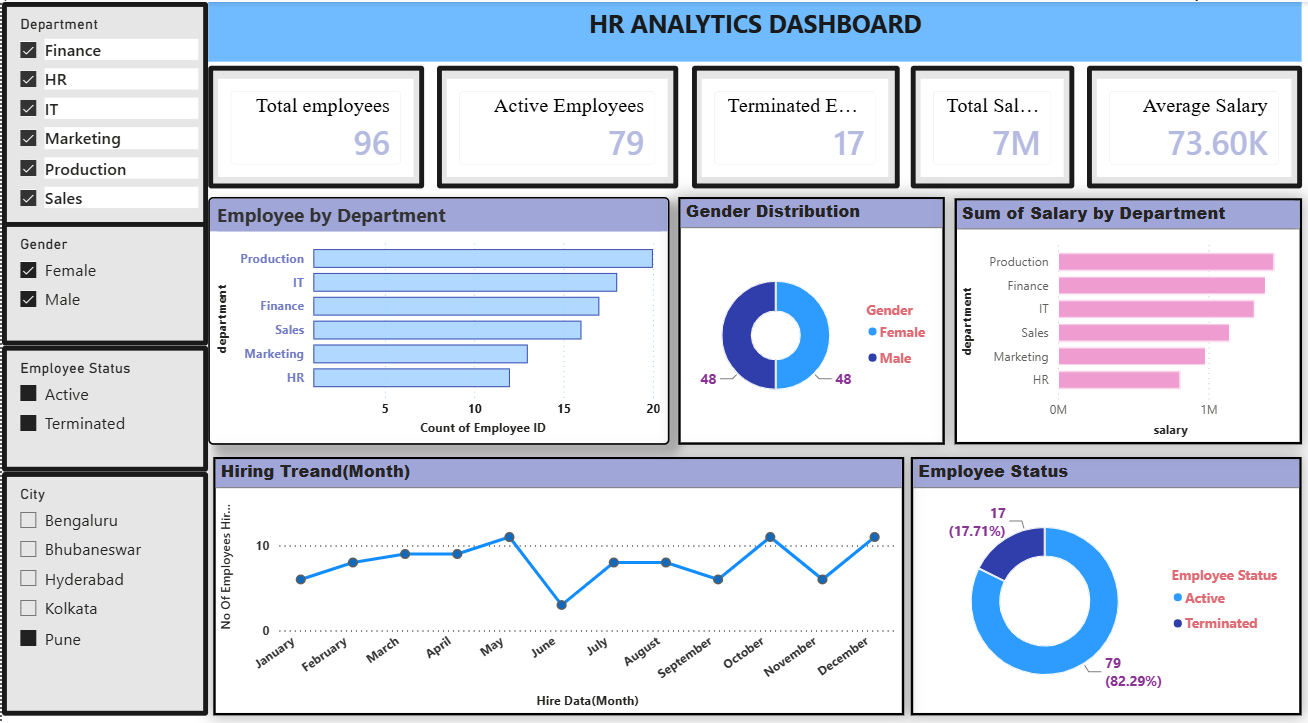

What the dashboard file says about the page in this screenshot:
{"tool":"powerbi","page":{"name":"Page 1","canvas":[1280,720],"ordinal":0},"visuals":[{"type":"cardVisual","fields":{"Data":["HR_Data.Total employees"]},"box":[201.8,62.4,211.6,119.8],"z":0},{"type":"cardVisual","fields":{"Data":["HR_Data.Active Employees"]},"box":[425.5,62.4,236,119.8],"z":1000},{"type":"cardVisual","fields":{"Data":["HR_Data.Terminated Employees"]},"box":[675,62.4,203,119.8],"z":2000},{"type":"cardVisual","fields":{"Data":["HR_Data.Total Salary"]},"box":[889,62.4,160.2,119.8],"z":3000},{"type":"cardVisual","fields":{"Data":["HR_Data.Average Salary"]},"box":[1061.4,62.4,210.3,119.8],"z":4000},{"type":"textbox","box":[201.8,0,1070,58.7],"z":5000},{"type":"barChart","title":" Employee  by Department","fields":{"Category":["HR_Data.Department"],"Y":["CountNonNull(HR_Data.Employee ID)"]},"box":[201.8,190.8,451.2,242.1],"z":6000},{"type":"donutChart","title":"Gender Distribution","fields":{"Category":["HR_Data.Gender"],"Y":["CountNonNull(HR_Data.Employee ID)"]},"box":[661.6,190.8,260.5,242.1],"z":7000},{"type":"donutChart","title":" Employee Status","fields":{"Category":["HR_Data.Employee Status"],"Y":["CountNonNull(HR_Data.Employee ID)"]},"box":[889,445.1,382.7,253.1],"z":8000},{"type":"lineChart","title":" Hiring Treand(Month)","fields":{"Category":["HR_Data.Hire Date.Variation.Date Hierarchy.Month"],"Y":["CountNonNull(HR_Data.Employee ID)"]},"box":[206.7,445.1,676.2,253.1],"z":9000},{"type":"slicer","fields":{"Values":["HR_Data.Department"]},"box":[0,0,201.8,227.4],"z":10000},{"type":"slicer","fields":{"Values":["HR_Data.Gender"]},"box":[0,215.2,201.8,121.1],"z":11000},{"type":"slicer","fields":{"Values":["HR_Data.City"]},"box":[0,459.8,201.8,238.5],"z":12000},{"type":"clusteredBarChart","fields":{"Y":["Sum(HR_Data.Salary)"],"Category":["HR_Data.Department"]},"box":[931.8,192,339.9,240.9],"z":13000},{"type":"slicer","fields":{"Values":["HR_Data.Employee Status"]},"box":[0,336.3,201.8,123.5],"z":14000}]}

Visuals, with their boxes in screenshot pixels (x1, y1, x2, y2), scaled from the page's 1280x720 canvas onto the 1308x723 screenshot:
cardVisual - HR_Data.Total employees: l=206, t=63, r=422, b=183
cardVisual - HR_Data.Active Employees: l=435, t=63, r=676, b=183
cardVisual - HR_Data.Terminated Employees: l=690, t=63, r=897, b=183
cardVisual - HR_Data.Total Salary: l=908, t=63, r=1072, b=183
cardVisual - HR_Data.Average Salary: l=1085, t=63, r=1300, b=183
textbox: l=206, t=0, r=1300, b=59
" Employee  by Department" barChart: l=206, t=192, r=667, b=435
"Gender Distribution" donutChart: l=676, t=192, r=942, b=435
" Employee Status" donutChart: l=908, t=447, r=1300, b=701
" Hiring Treand(Month)" lineChart: l=211, t=447, r=902, b=701
slicer - HR_Data.Department: l=0, t=0, r=206, b=228
slicer - HR_Data.Gender: l=0, t=216, r=206, b=338
slicer - HR_Data.City: l=0, t=462, r=206, b=701
clusteredBarChart - Sum(HR_Data.Salary) x HR_Data.Department: l=952, t=193, r=1300, b=435
slicer - HR_Data.Employee Status: l=0, t=338, r=206, b=462
